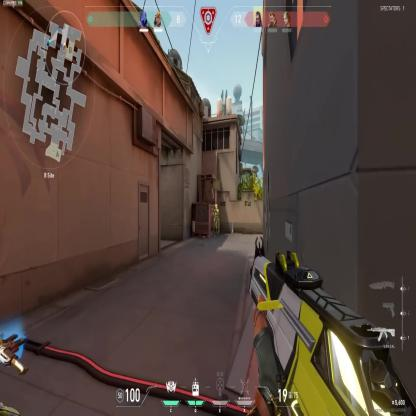enemy: (214, 202, 219, 238)
enemy_head: (215, 204, 218, 210)
